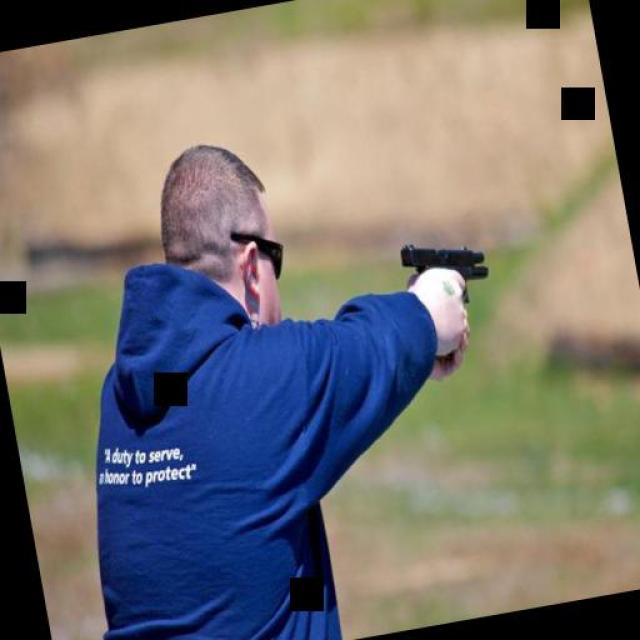gun: (383, 220, 495, 324)
